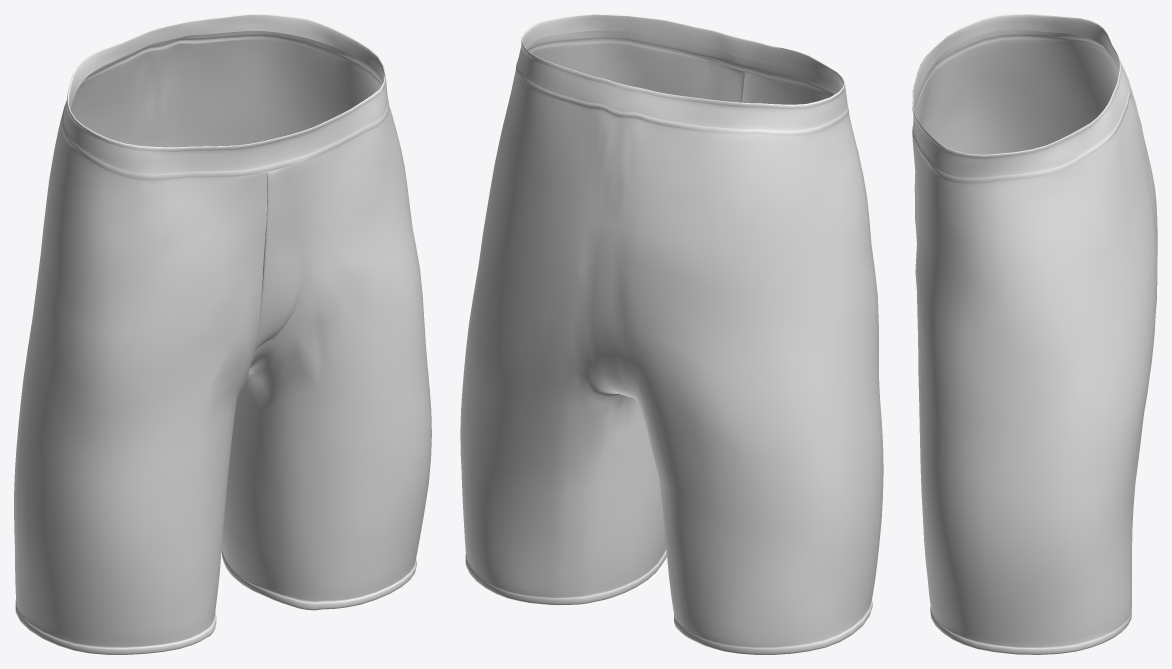
The model's file is Shorts.glb.
The picture shows the model from 3 angles, left to right: view 1: azimuth 30°, elevation 25°; view 2: azimuth 150°, elevation 25°; view 3: azimuth 270°, elevation 25°; orthographic projection. The views are drawn at different scales.
Parts seen in each view (by area): view 1: Boxers_for_Genesis.003; view 2: Boxers_for_Genesis.003; view 3: Boxers_for_Genesis.003.
Part boxes in pixels (bbox=[...]): Boxers_for_Genesis.003: bbox=[14, 14, 431, 654]; Boxers_for_Genesis.003: bbox=[460, 14, 883, 654]; Boxers_for_Genesis.003: bbox=[912, 14, 1157, 654].
Size of the model in its own units: 7.5 by 10.02 by 4.42.
Materials: 1 (1 with a texture image).
